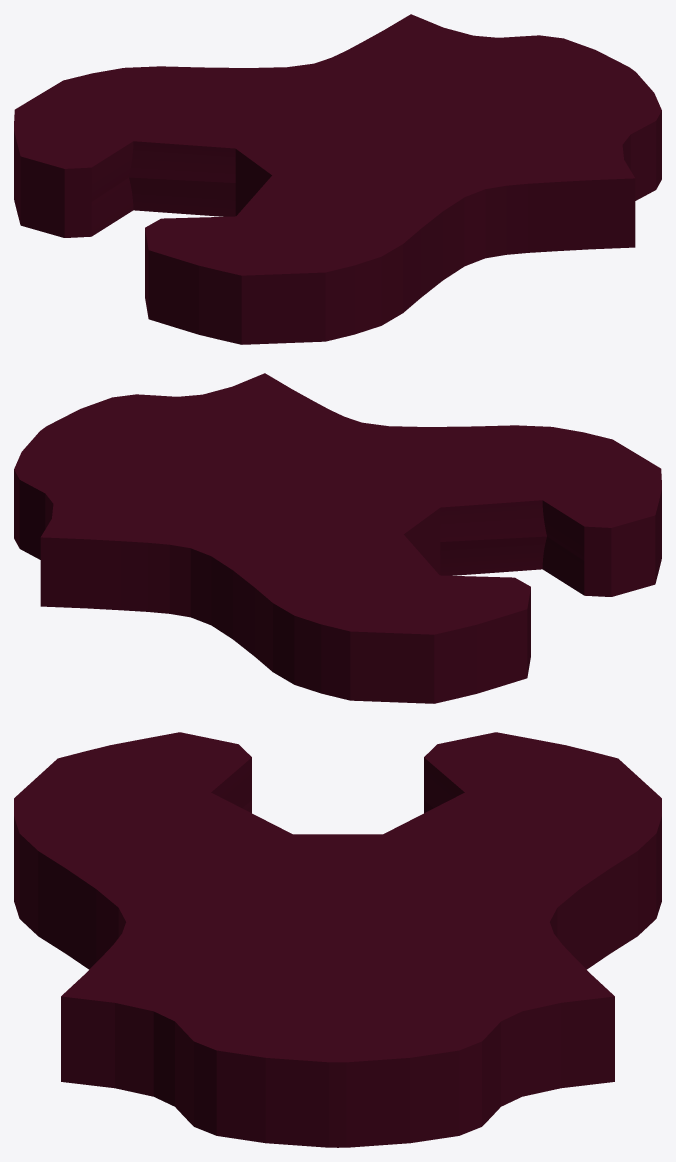
Rendered from sym_claw.fbx.
3 renders of one model, top to bottom at view 1: azimuth 30°, elevation 25°; view 2: azimuth 150°, elevation 25°; view 3: azimuth 270°, elevation 25°, orthographic. The views are drawn at different scales.
Visible parts, largest first — view 1: Claw; view 2: Claw; view 3: Claw.
Part boxes in pixels (bbox=[...]): Claw: bbox=[14, 14, 661, 344]; Claw: bbox=[14, 373, 661, 703]; Claw: bbox=[14, 732, 661, 1147].
Size of the model in its own units: 531 by 64.08 by 441.
